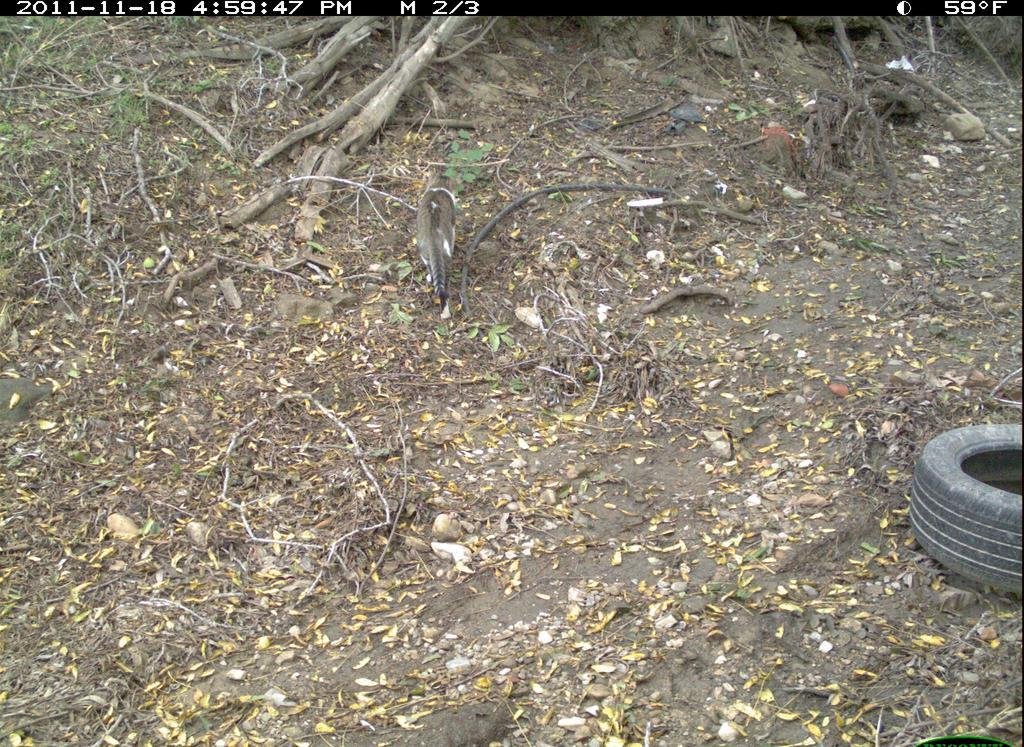cat: (399, 157, 477, 324)
